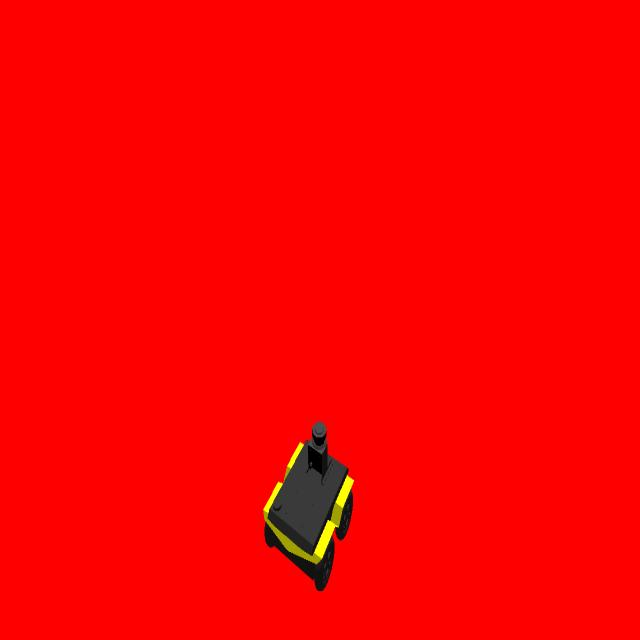jackal: (263, 421, 355, 589)
